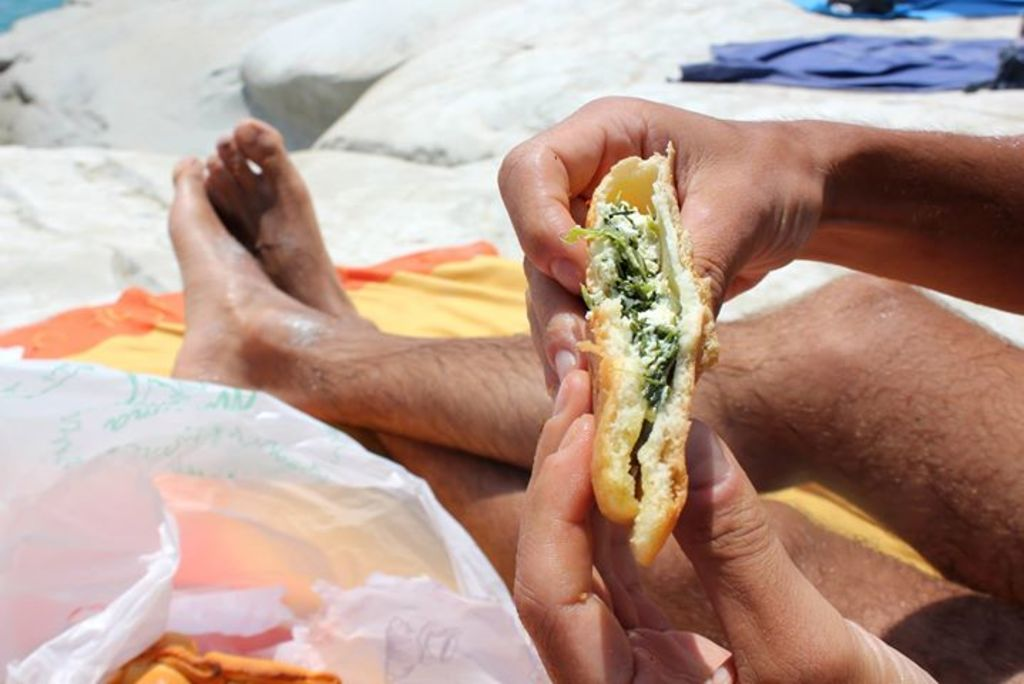hot_dog: (564, 140, 741, 586)
